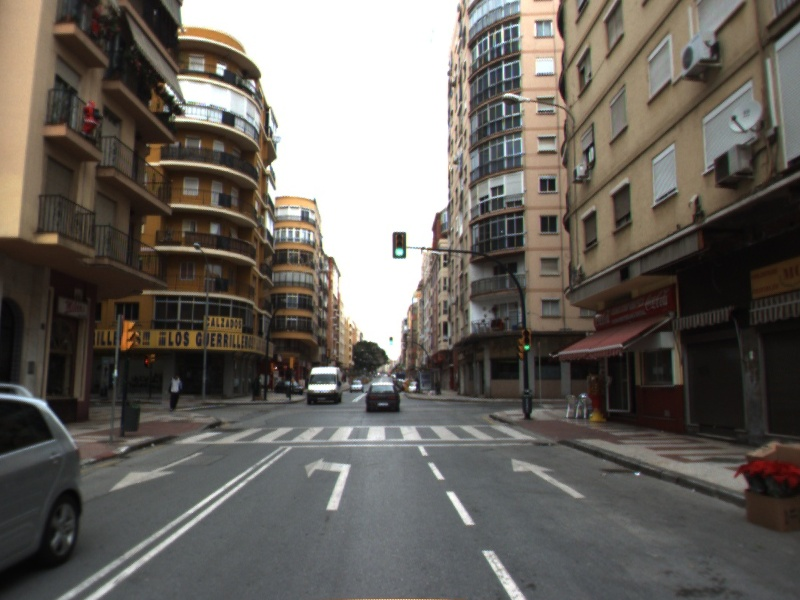LEFT: (303, 456, 353, 512)
STRAIGHT: (510, 457, 587, 500)
